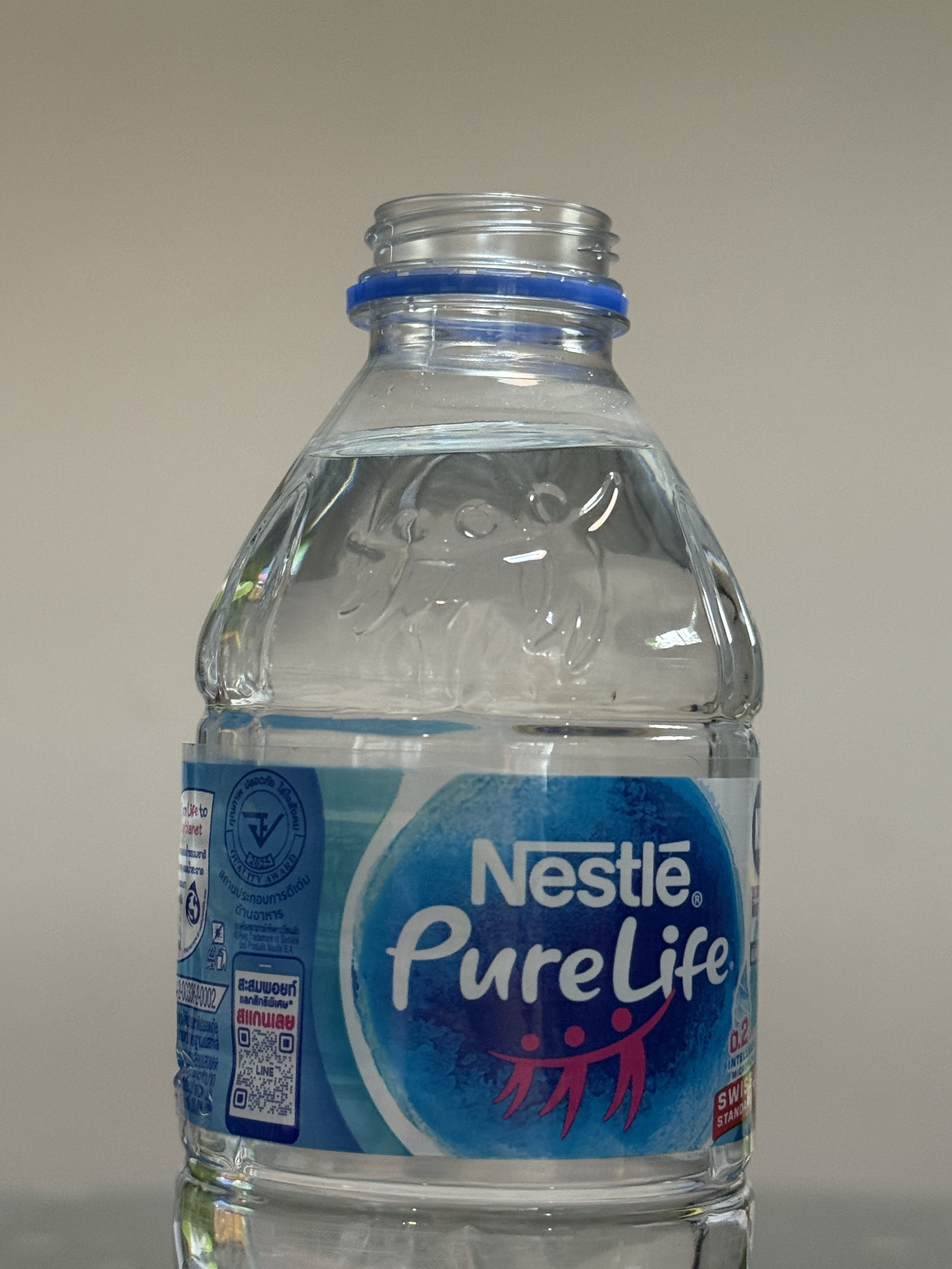no_cap: (345, 187, 636, 317)
